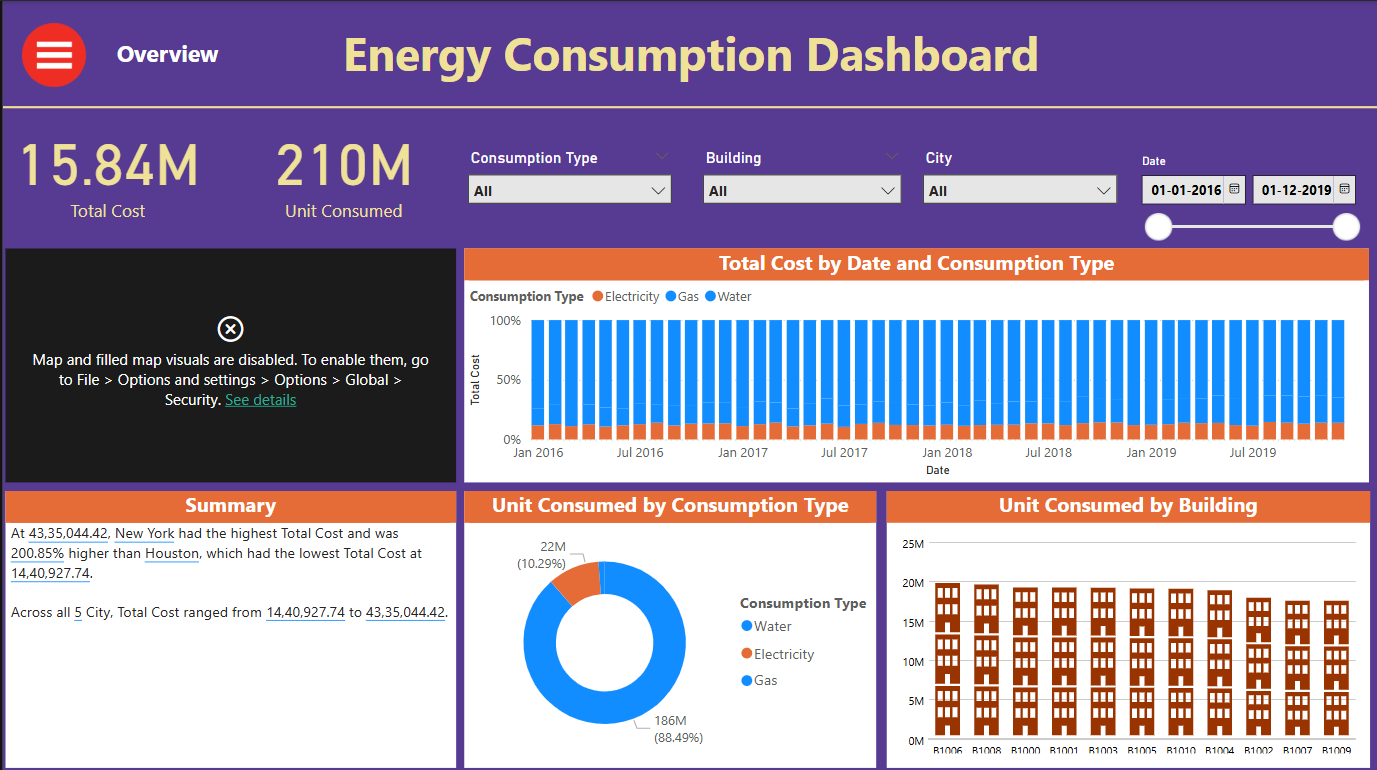

Layout of this report page (visuals, bound fields, positions):
{"tool":"powerbi","page":{"name":"Overview","canvas":[1280,720],"ordinal":0},"visuals":[{"type":"shape","box":[0,83.6,1280,30.2],"z":0},{"type":"image","box":[0,14.6,94.6,69.7],"z":1000},{"type":"textbox","box":[290.3,14.4,698.4,69],"z":2000},{"type":"textbox","box":[94,28.6,117.8,41.7],"z":3000},{"type":"card","fields":{"Values":["Energy Consumptions.Total Cost"]},"box":[2.9,98.8,190.8,115.1],"z":4000},{"type":"card","fields":{"Values":["Energy Consumptions.Unit Consumed"]},"box":[212.9,98.8,209,115.1],"z":5000},{"type":"slicer","fields":{"Values":["Energy Consumptions.Consumption Type"]},"box":[421.9,132.3,210,63.3],"z":6000},{"type":"slicer","fields":{"Values":["Energy Consumptions.Building"]},"box":[640.5,132.3,205.2,63.3],"z":7000},{"type":"slicer","fields":{"Values":["Building Master.City"]},"box":[845.7,132.3,201.3,63.3],"z":8000},{"type":"slicer","fields":{"Values":["Energy Consumptions.Date"]},"box":[1047,137.1,224.4,93],"z":9000},{"type":"map","fields":{"Size":["Energy Consumptions.Total Cost"],"Category":["Building Master.City"]},"box":[2.9,230.1,419,217.6],"z":10000},{"type":"hundredPercentStackedColumnChart","fields":{"Y":["Energy Consumptions.Total Cost"],"Category":["Energy Consumptions.Date"],"Series":["Energy Consumptions.Consumption Type"]},"box":[429.5,230.1,841.8,217.6],"z":11000},{"type":"textbox","title":"Summary","box":[2.9,455.4,419,257.9],"z":12000},{"type":"donutChart","fields":{"Category":["Energy Consumptions.Consumption Type"],"Y":["Energy Consumptions.Unit Consumed"]},"box":[429.5,455.4,383.5,257.9],"z":13000},{"type":"PBI_CV_73744D90_4DC9_4F18_8BA5_EE8FA5C98035","fields":{"Values":["Energy Consumptions.Unit Consumed"],"Category":["Energy Consumptions.Building"]},"box":[821.9,455.7,449.6,257.3],"z":14000},{"type":"actionButton","box":[3.1,9.4,91.5,74.9],"z":15000}]}

Visuals, with their boxes in screenshot pixels (x1, y1, x2, y2), scaled from the page's 1280x720 canvas onto the 1377x770 screenshot:
shape: [0, 89, 1376, 122]
image: [0, 16, 102, 90]
textbox: [312, 15, 1064, 89]
textbox: [101, 31, 228, 75]
card - Energy Consumptions.Total Cost: [3, 106, 208, 229]
card - Energy Consumptions.Unit Consumed: [229, 106, 454, 229]
slicer - Energy Consumptions.Consumption Type: [454, 141, 680, 209]
slicer - Energy Consumptions.Building: [689, 141, 910, 209]
slicer - Building Master.City: [910, 141, 1126, 209]
slicer - Energy Consumptions.Date: [1126, 147, 1368, 246]
map - Energy Consumptions.Total Cost x Building Master.City: [3, 246, 454, 479]
hundredPercentStackedColumnChart - Energy Consumptions.Total Cost x Energy Consumptions.Date: [462, 246, 1368, 479]
"Summary" textbox: [3, 487, 454, 763]
donutChart - Energy Consumptions.Consumption Type x Energy Consumptions.Unit Consumed: [462, 487, 875, 763]
PBI_CV_73744D90_4DC9_4F18_8BA5_EE8FA5C98035 - Energy Consumptions.Unit Consumed x Energy Consumptions.Building: [884, 487, 1368, 763]
actionButton: [3, 10, 102, 90]
